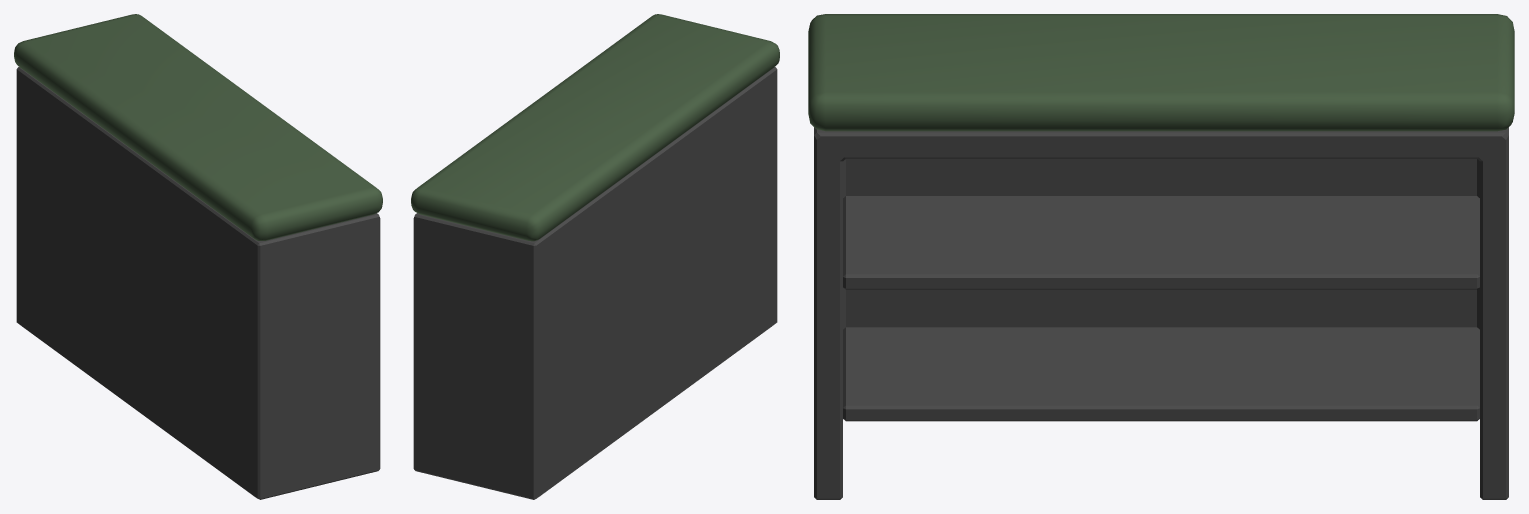
File: h-004_shoeRack_F.FBX
The picture shows the model from 3 angles, left to right: view 1: azimuth 30°, elevation 25°; view 2: azimuth 150°, elevation 25°; view 3: azimuth 270°, elevation 25°; orthographic projection. The views are drawn at different scales.
Visible parts, largest first — view 1: h-004_shoeRack; view 2: h-004_shoeRack; view 3: h-004_shoeRack.
Part boxes in pixels (x1,y1,x2,y2): h-004_shoeRack: [14, 14, 382, 499]; h-004_shoeRack: [411, 14, 779, 499]; h-004_shoeRack: [808, 14, 1514, 499].
Size of the model in its own units: 3.7 by 7.7 by 12.2.
